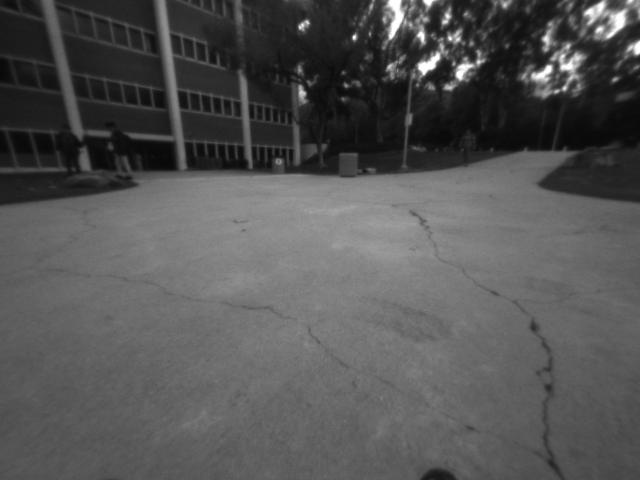trashcan: (264, 151, 293, 180), (334, 151, 356, 181)
